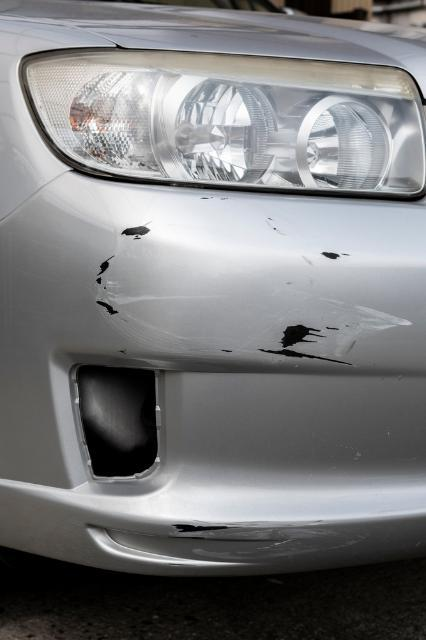scratch: (92, 194, 414, 368), (170, 515, 376, 562)
